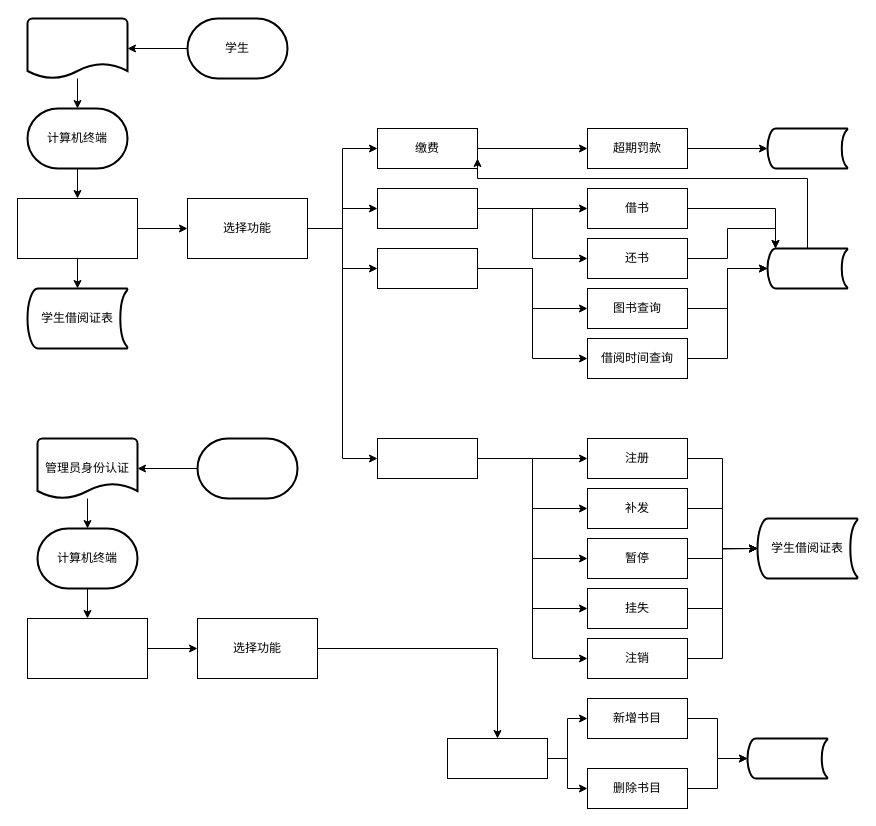
The diagram is 876 pixels wide and 826 high, and some of its shapes have lost their labels. The shapes that lost their labels are listed below. From the top down, each one's box as (x1, y1, x2, y2) in pixels, then its label:
(26, 17, 128, 79): 借阅证
(766, 127, 848, 169): 学生缴费表
(16, 198, 138, 258): 审查并进入 借阅证系统
(376, 188, 478, 228): 借还图书
(376, 248, 478, 288): 查询
(766, 247, 848, 289): 借阅图书表
(196, 437, 298, 499): 管理员
(376, 438, 478, 478): 借阅证管理
(26, 618, 148, 678): 认证并进入 借管理系统
(446, 738, 548, 778): 书目管理
(746, 737, 828, 779): 图书信息表
